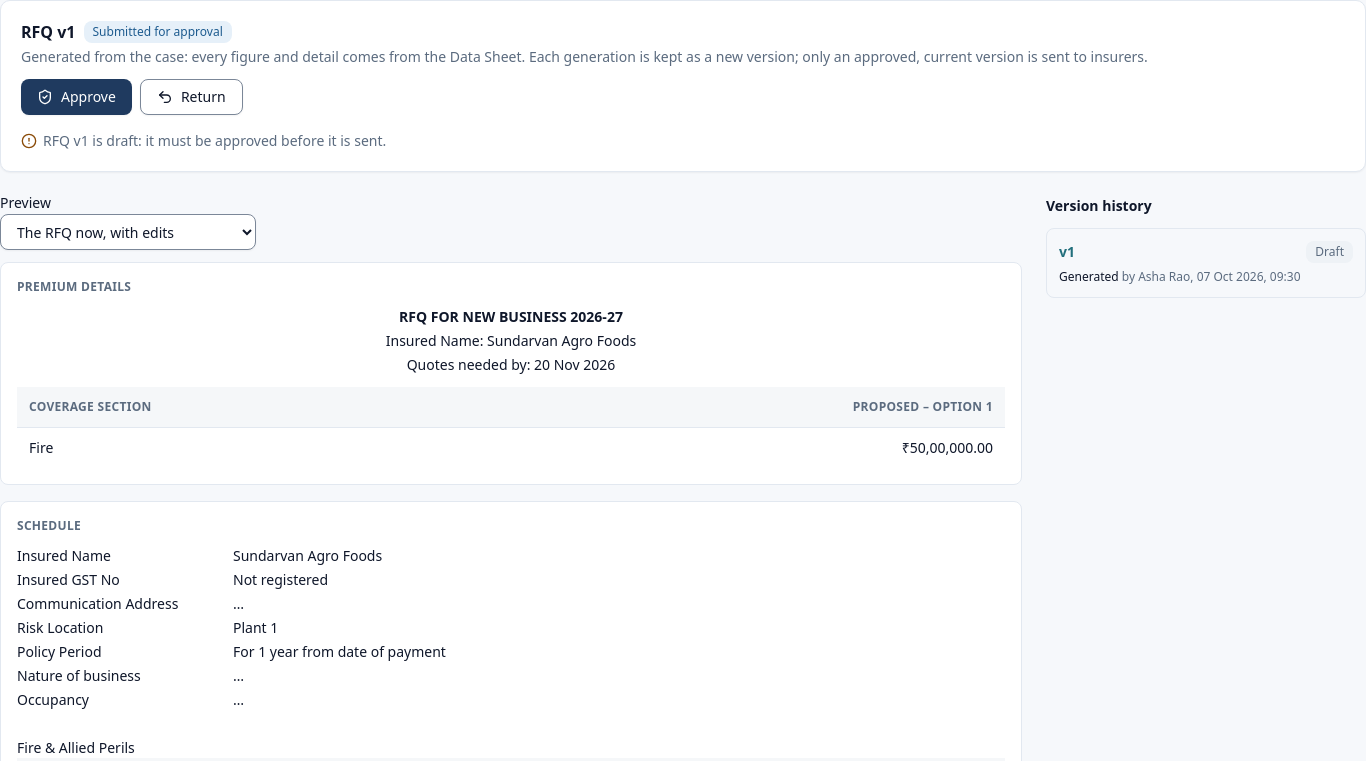
Test: RfqReviewPanel › R-5: an approver approves or returns the submitted version with comments
Expected: the button "Approve" is shown, 21,79 -> 132,115
Click the button "Return".
click(191, 97)  # box 140,79 -> 243,115
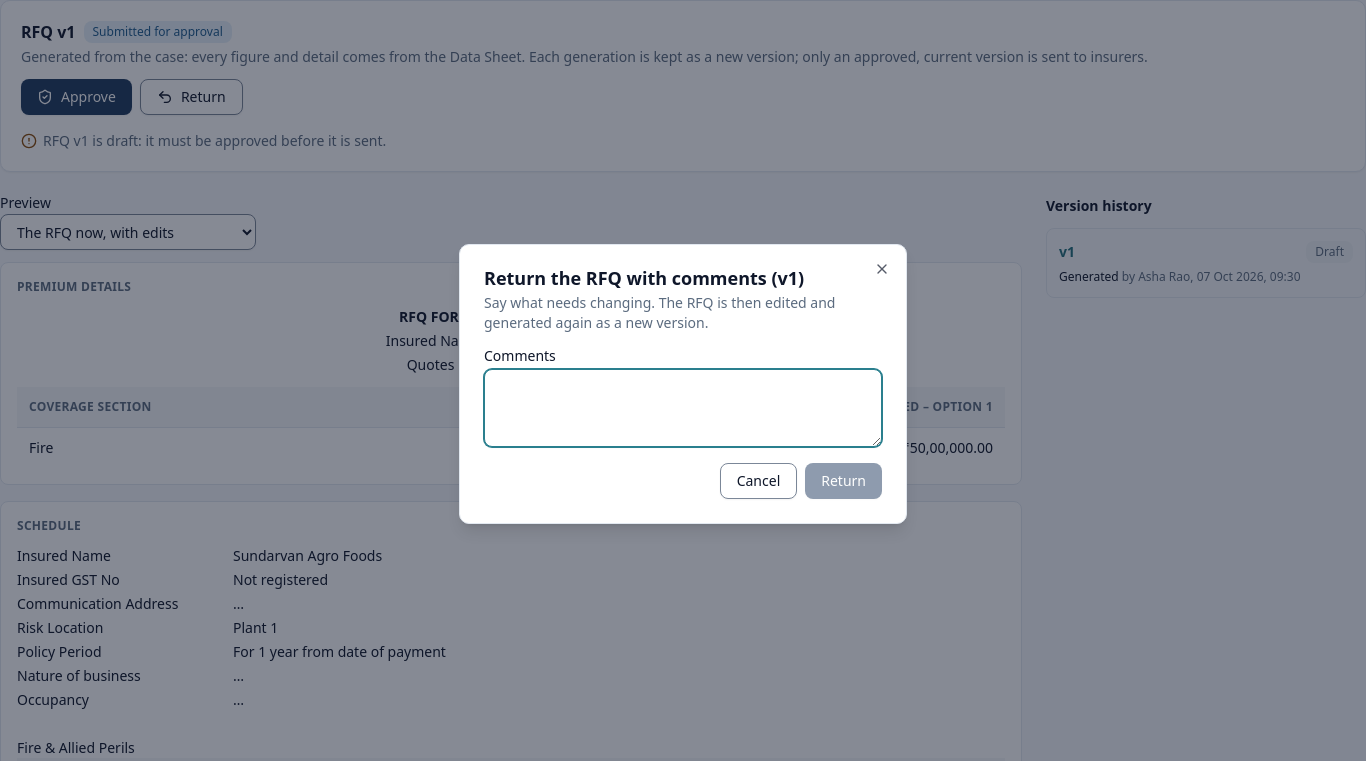
Expected: the button "Return" is disabled, 805,463 -> 882,499
Type "Add hydrant details" into the text box labelled "Comments".
click(683, 408); type("Add hydrant details")  # box 484,369 -> 882,447
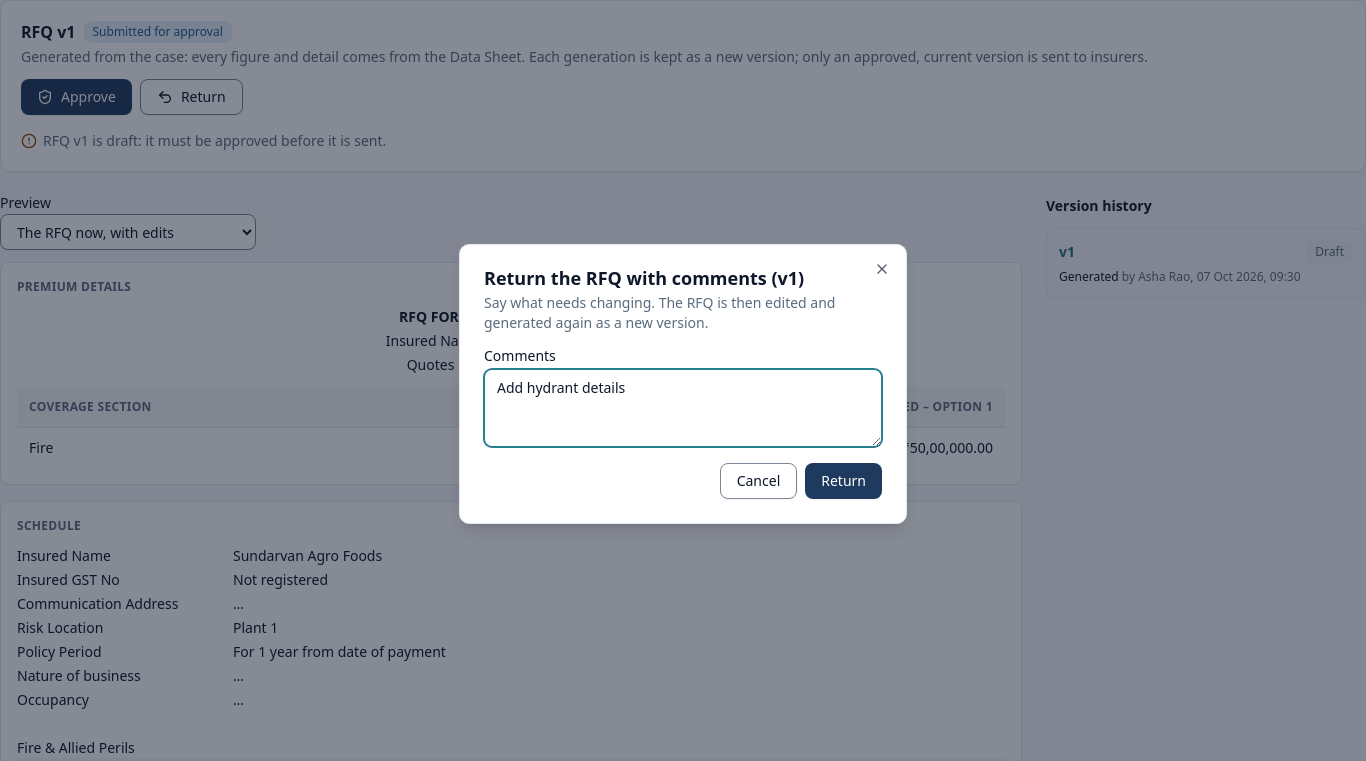
Click the button "Return".
click(844, 481)  # box 805,463 -> 882,499
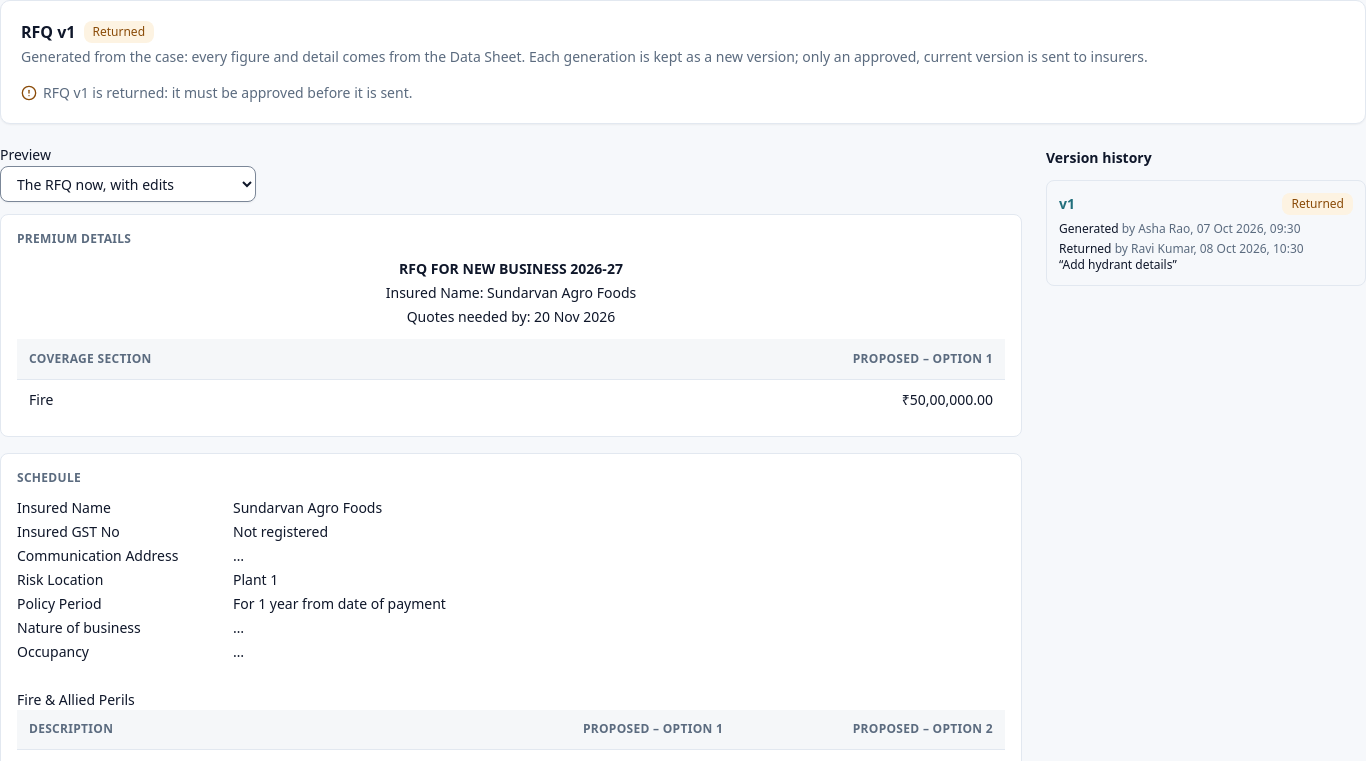
Expected: the text "“Add hydrant details”" is shown, 1059,256 -> 1177,273
